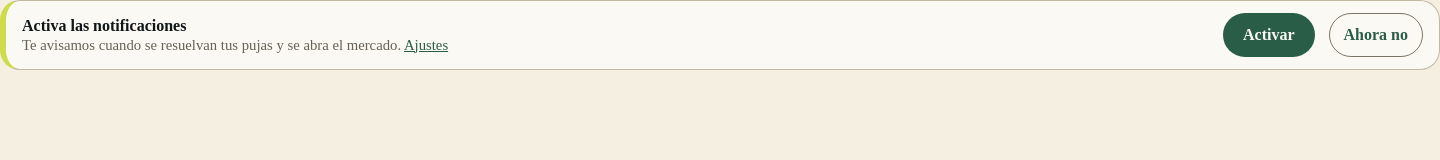
PushReminderBanner › a failure keeps the banner and says why
Click the button "Activar" at (1269, 35), box [1223,13,1314,57]
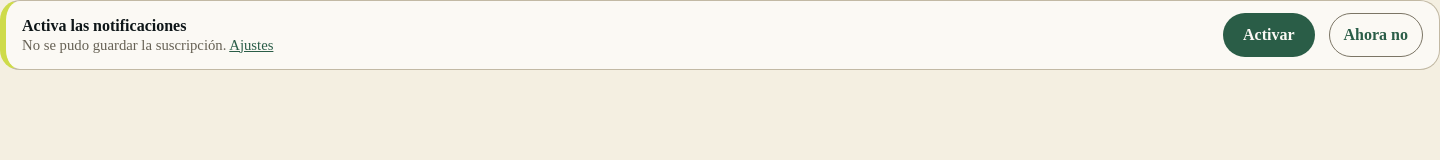
Expected: the text "No se pudo guardar la suscripción." is shown, [22,36,226,52]
